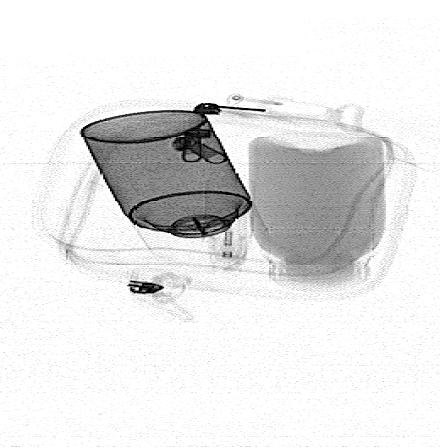Sprayer: (80, 110, 271, 262)
